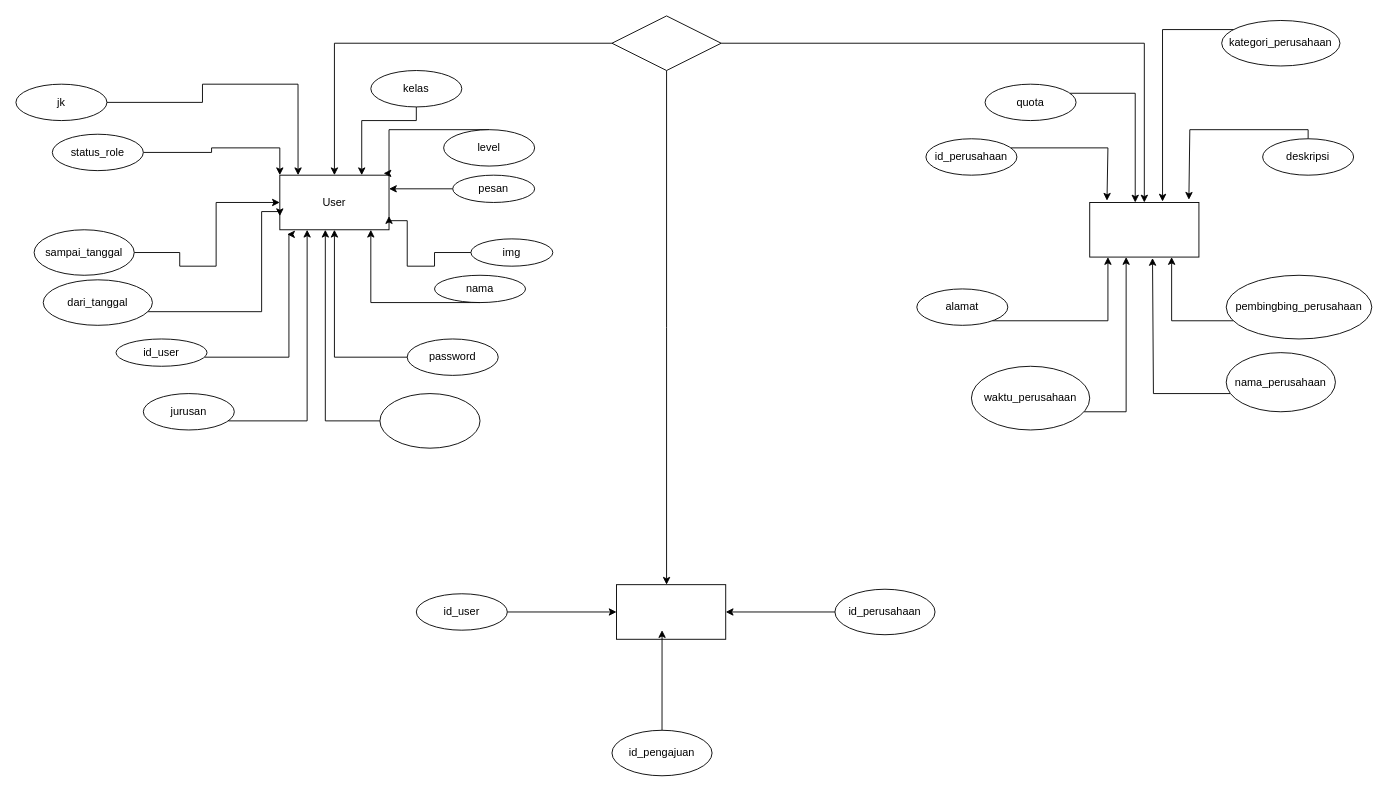
The diagram is 1388 pixels wide and 792 high, and some of its shapes have lost their labels. Here are the shapes that lost their labels. From the top down, the centre of each, then its label:
At (x=666, y=43): "Relationship".
At (x=1144, y=229): "Perusahan".
At (x=429, y=420): "nama_lengkap".
At (x=671, y=611): "pengajuan".
